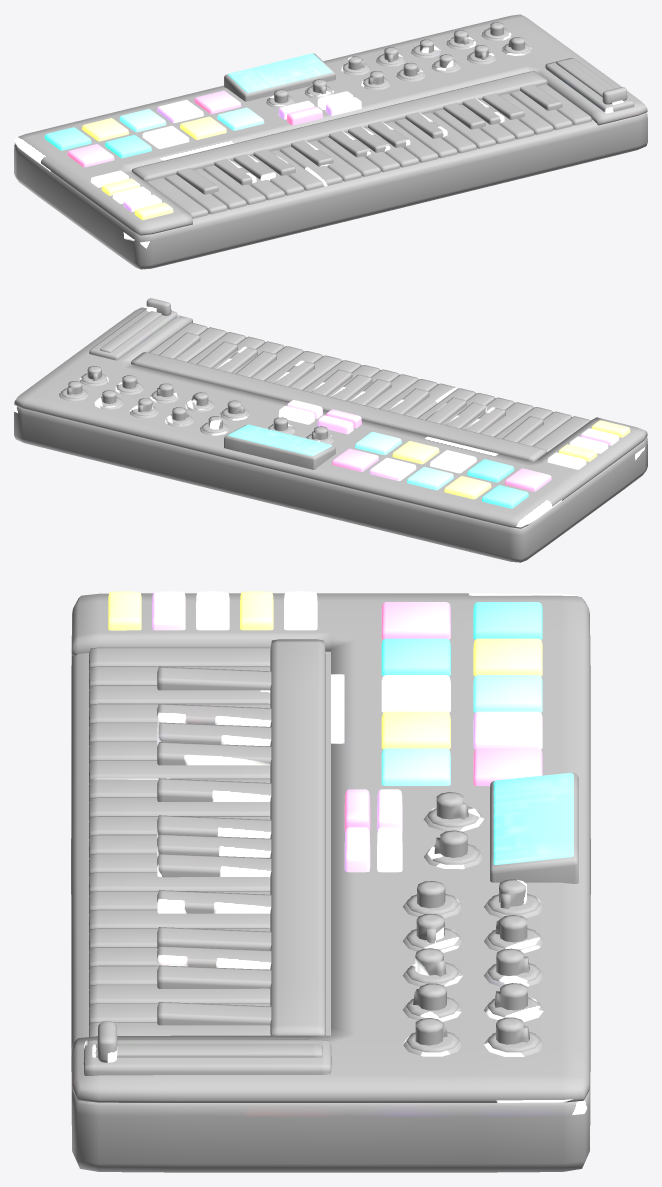
Rendered from bj-mixer-icon.v2.glb.
The picture shows the model from 3 angles, top to bottom: view 1: azimuth 30°, elevation 25°; view 2: azimuth 150°, elevation 25°; view 3: azimuth 270°, elevation 25°; orthographic projection. The views are drawn at different scales.
Visible parts, largest first — view 1: dj-synthesizer; view 2: dj-synthesizer; view 3: dj-synthesizer.
Boxes of the visible parts, x1,y1,x2,y2 form: dj-synthesizer: (14, 14, 647, 269); dj-synthesizer: (14, 298, 647, 562); dj-synthesizer: (71, 591, 590, 1172).
Bounding box in the file's own units: 0.9529 × 0.1088 × 0.4189.
